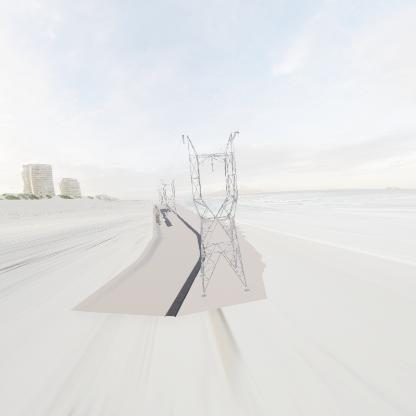tower: (179, 128, 251, 302)
